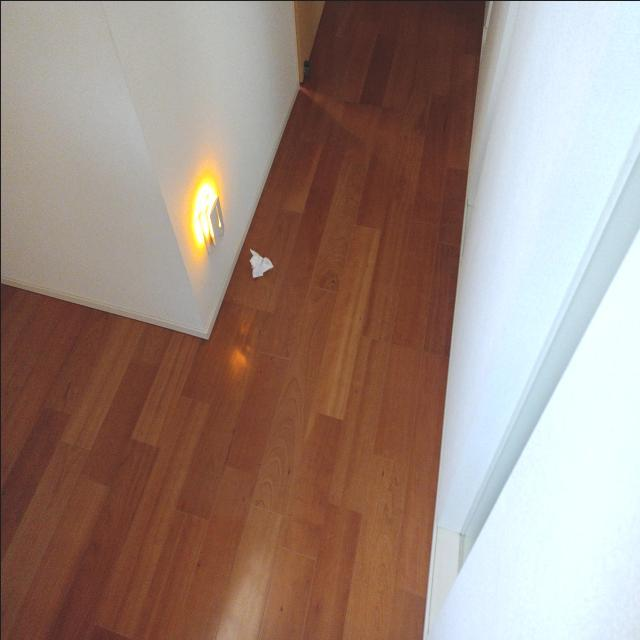Paper: (246, 248, 289, 306)
